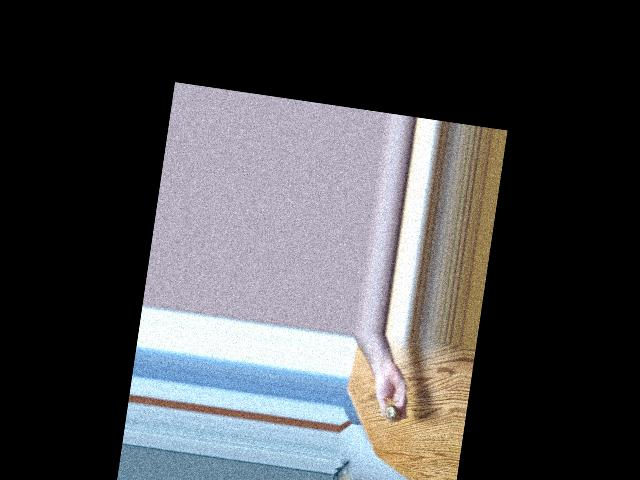sweet_potato: (379, 404, 398, 425)
